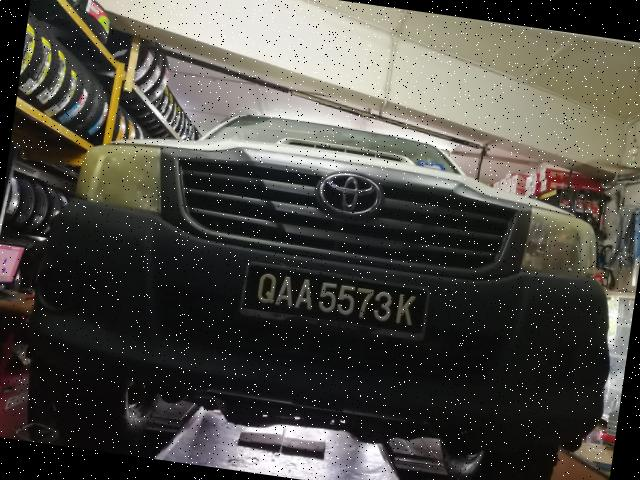License_Plate: (244, 264, 432, 343)
car: (19, 72, 640, 480)
